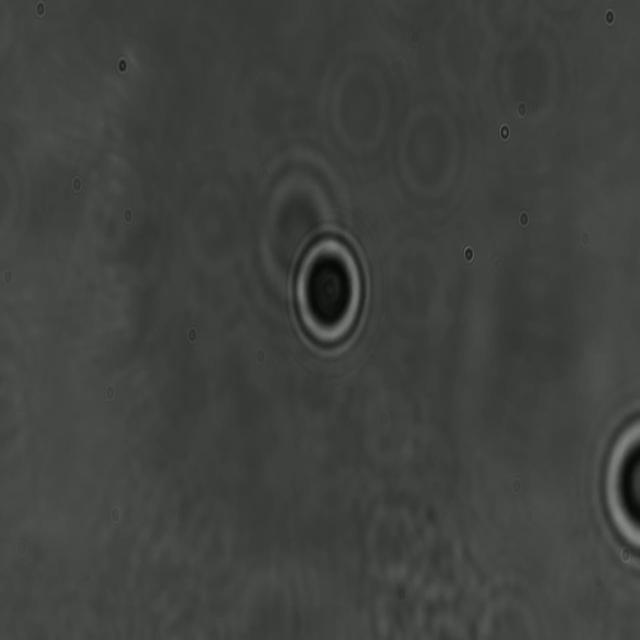DCELL: (277, 215, 382, 366)
